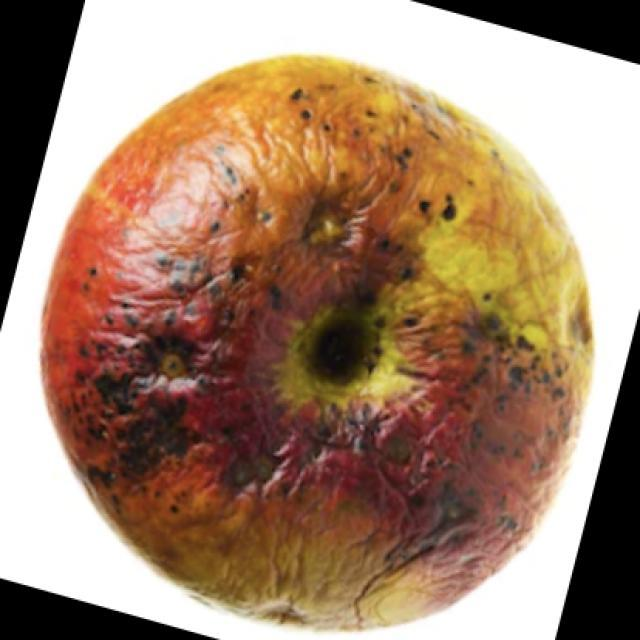Rotten: (95, 75, 598, 597)
